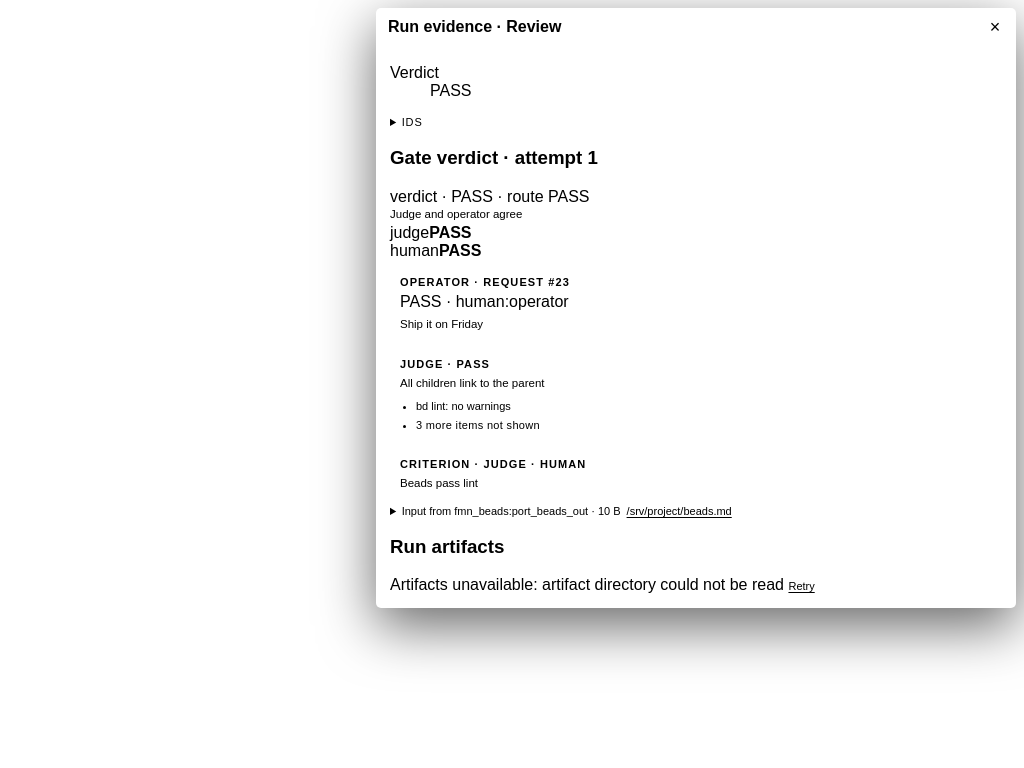
RunEvidence › shows the artifact cause beside healthy gate_review evidence and retries only artifacts
This screenshot has width=1024, height=768.
(page scrolled)
Expected: the element with test id "node-gate-verdict" shows "Judge and operator agree", [390,208,522,220]
Expected: the message shows "Artifacts unavailable: artifact directory could not be read", [390,576,815,593]
Click the button "Retry".
click(802, 586)  # box [788,580,815,592]
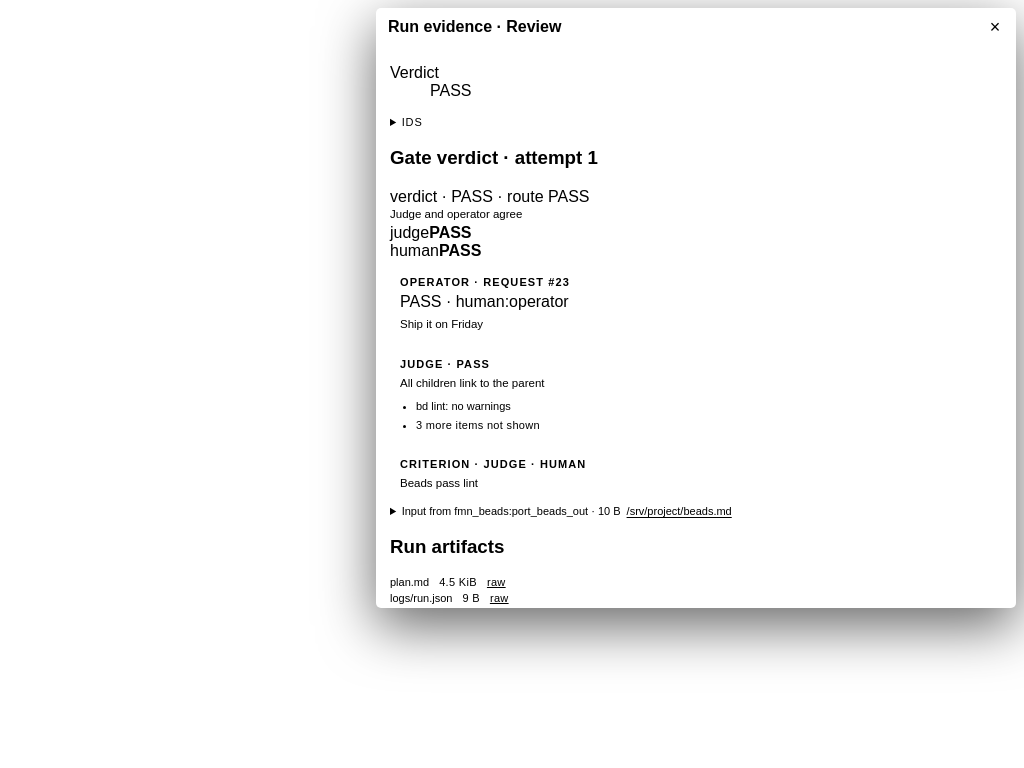
Expected: the element with test id "node-gate-verdict" shows "Judge and operator agree", [390,208,522,220]
Expected: the list with test id "run-artifacts" shows "plan.md", [390,576,429,588]
Expected: the message "Artifacts unavailable: artifact directory could not be read Retry" is gone
